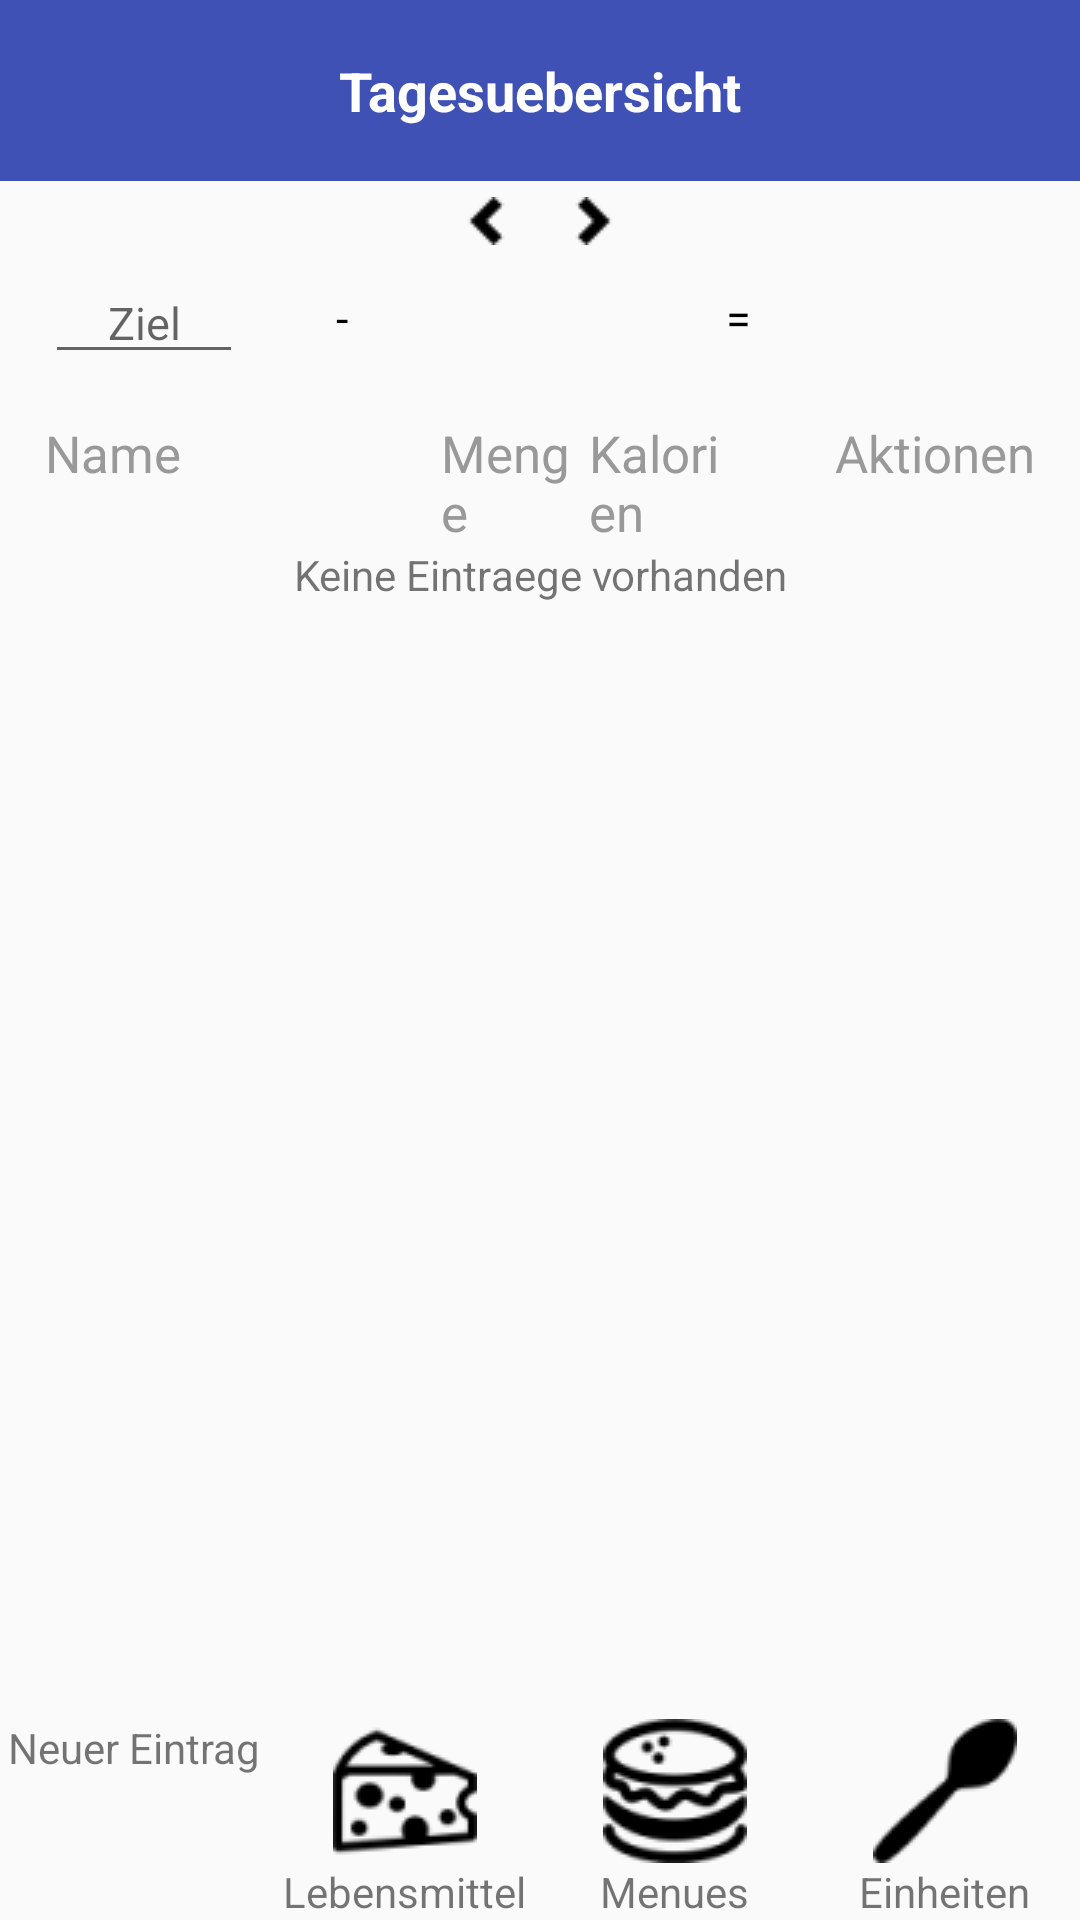

Icon bounding boxes for this 1080×1920 phone screenshot, format (x1, y1, x2, y2):
arrow left: (470, 197, 503, 245)
arrow right: (577, 197, 610, 245)
cheese: (333, 1729, 477, 1854)
hamburger: (603, 1719, 747, 1863)
spoon: (873, 1719, 1017, 1863)
